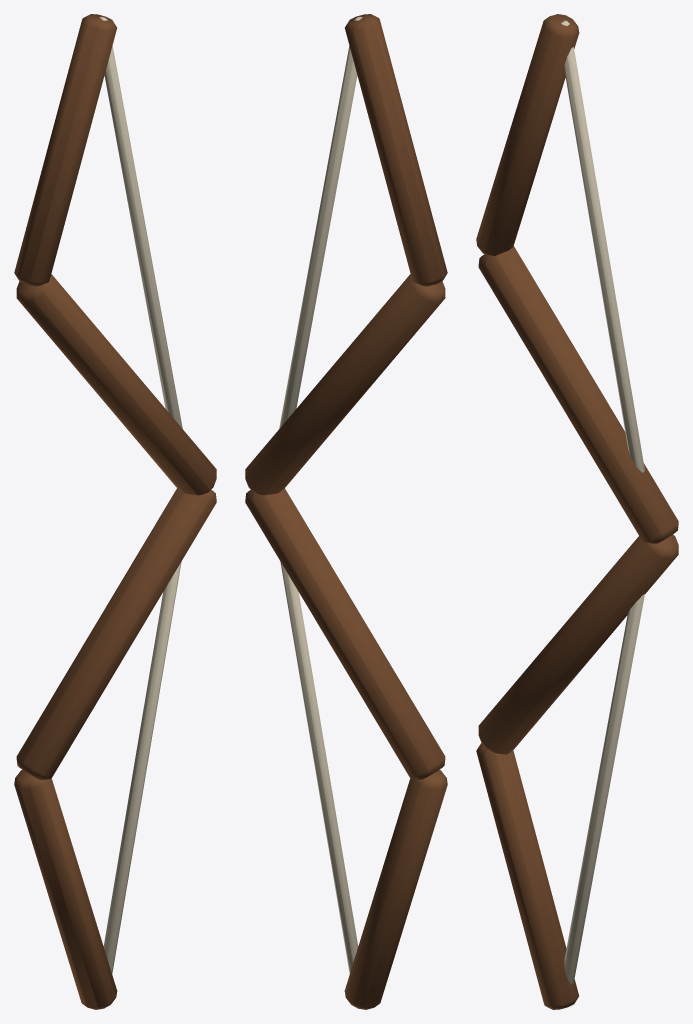
File: weapon_bow.glb
The picture shows the model from 3 angles, left to right: view 1: azimuth 30°, elevation 25°; view 2: azimuth 150°, elevation 25°; view 3: azimuth 330°, elevation 25°; orthographic projection.
Parts seen in each view (by area): view 1: WEAPON_BOW__limb_lower, WEAPON_BOW__limb, WEAPON_BOW__limb_upper, WEAPON_BOW__limb_tip, WEAPON_BOW__string, WEAPON_BOW__string_upper; view 2: WEAPON_BOW__limb_lower, WEAPON_BOW__limb, WEAPON_BOW__limb_upper, WEAPON_BOW__limb_tip, WEAPON_BOW__string, WEAPON_BOW__string_upper; view 3: WEAPON_BOW__limb, WEAPON_BOW__limb_lower, WEAPON_BOW__limb_tip, WEAPON_BOW__limb_upper, WEAPON_BOW__string_upper, WEAPON_BOW__string.
Boxes of the visible parts, x1,y1,x2,y2 form: WEAPON_BOW__limb_lower: (16,488,216,779); WEAPON_BOW__limb: (16,274,216,495); WEAPON_BOW__limb_upper: (14,14,116,286); WEAPON_BOW__limb_tip: (14,770,117,1009); WEAPON_BOW__string: (103,561,181,973); WEAPON_BOW__string_upper: (99,16,182,428); WEAPON_BOW__limb_lower: (245,488,445,779); WEAPON_BOW__limb: (245,274,445,495); WEAPON_BOW__limb_upper: (345,14,447,286); WEAPON_BOW__limb_tip: (344,770,447,1009); WEAPON_BOW__string: (280,561,358,973); WEAPON_BOW__string_upper: (279,16,362,428); WEAPON_BOW__limb: (478,246,678,543); WEAPON_BOW__limb_lower: (478,534,678,754); WEAPON_BOW__limb_tip: (476,743,578,1009); WEAPON_BOW__limb_upper: (476,14,579,255); WEAPON_BOW__string_upper: (561,20,644,472); WEAPON_BOW__string: (564,594,644,984).
Bounding box in the file's own units: 0.2508 × 1.21 × 0.0476.
